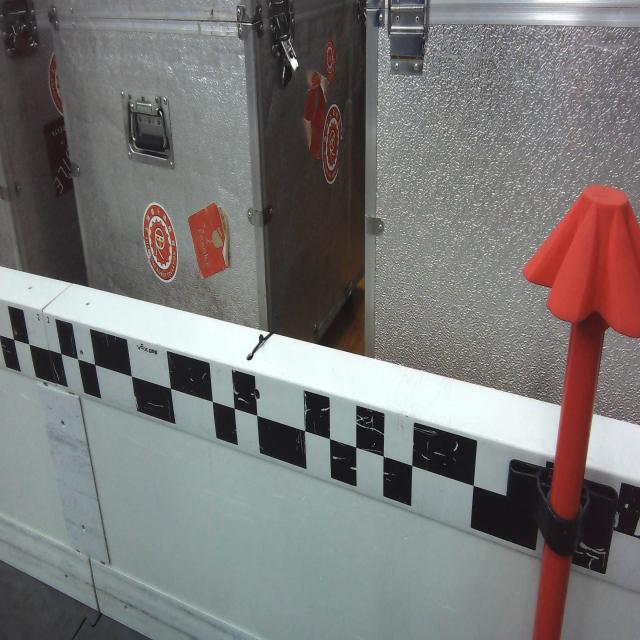zred-Stake-Head: (523, 185, 640, 338)
